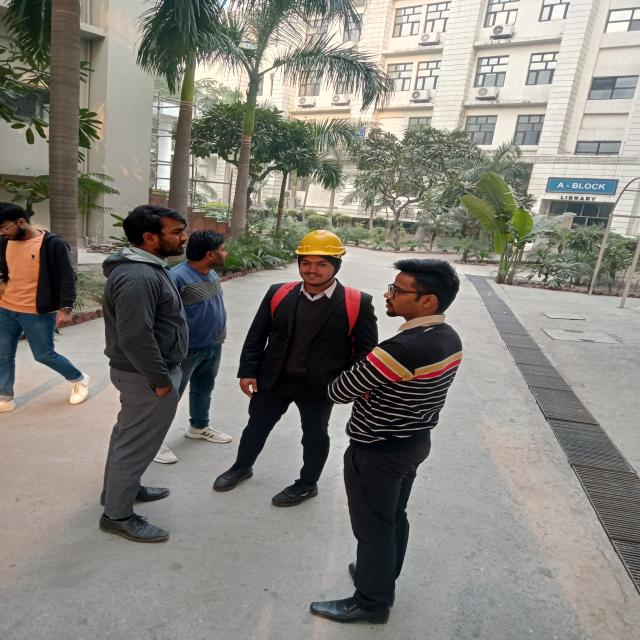no jacket: (229, 225, 363, 497)
unsafe: (345, 261, 460, 640), (98, 204, 187, 550), (0, 203, 91, 410), (180, 232, 230, 461)
